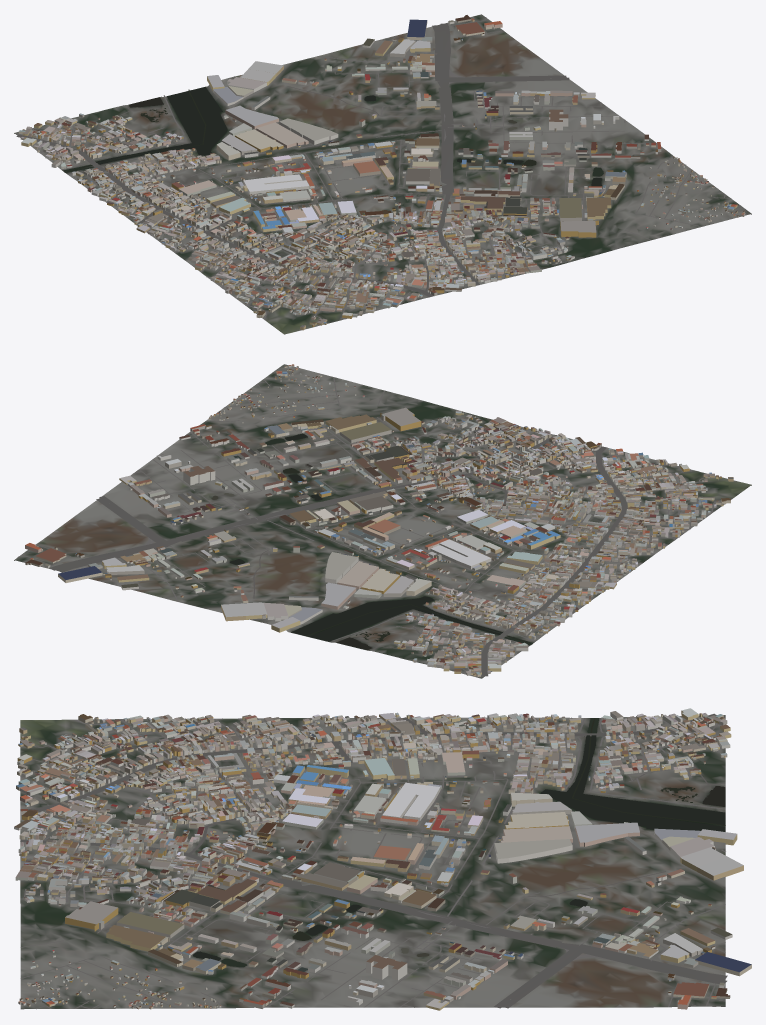
The picture shows the model from 3 angles, top to bottom: view 1: azimuth 30°, elevation 25°; view 2: azimuth 150°, elevation 25°; view 3: azimuth 270°, elevation 25°; orthographic projection. The views are drawn at different scales.
Parts seen in each view (by area): view 1: ground, buildings, roads, water; view 2: ground, buildings, roads, water; view 3: ground, buildings, roads, water.
Part boxes in pixels (x1,y1,x2,y2): ground: (14, 14, 751, 334); buildings: (19, 15, 745, 330); roads: (16, 16, 745, 330); water: (63, 87, 603, 186); ground: (14, 364, 751, 678); buildings: (25, 364, 733, 676); roads: (17, 368, 735, 676); water: (211, 433, 532, 649); ground: (20, 715, 725, 1009); buildings: (14, 708, 751, 1010); roads: (20, 713, 727, 1009); water: (192, 718, 725, 971).
Size of the model in its own units: 1431 by 47.23 by 1466.
